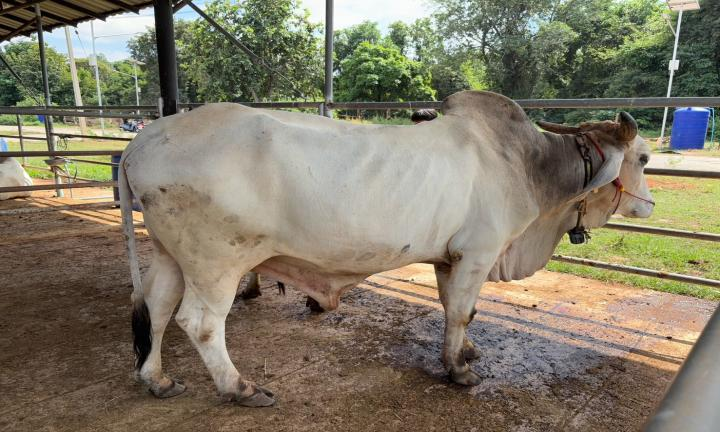Brahman: (118, 91, 653, 405)
